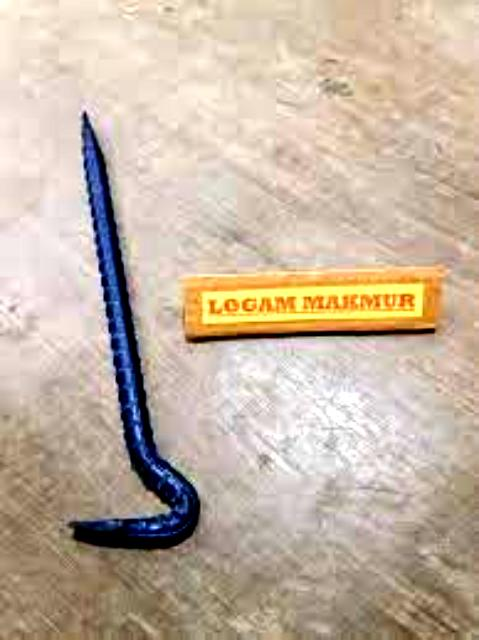crow bar: (51, 92, 211, 560)
